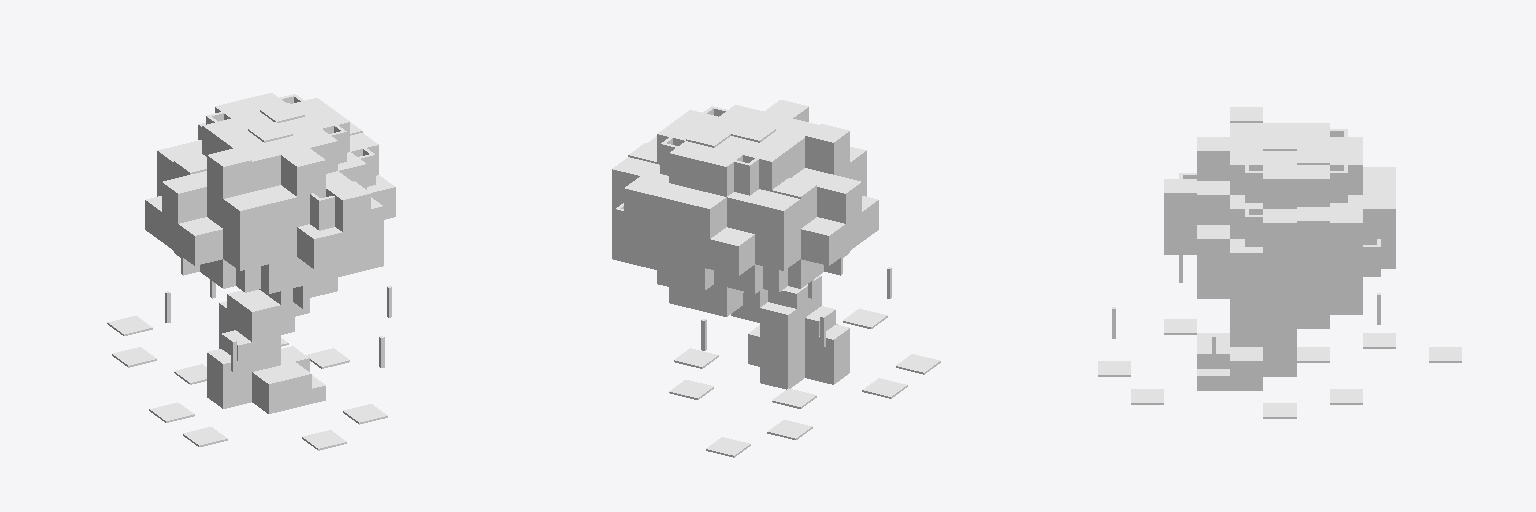
The model's file is Mineways2Skfb.obj.
The picture shows the model from 3 angles: view 1: azimuth 30°, elevation 25°; view 2: azimuth 150°, elevation 25°; view 3: azimuth 270°, elevation 25°; orthographic projection.
Visible parts, largest first — view 1: nice-tree.schematic__-13_0_-14_to_66_255_74; view 2: nice-tree.schematic__-13_0_-14_to_66_255_74; view 3: nice-tree.schematic__-13_0_-14_to_66_255_74.
Part boxes in pixels (left/top/right/bottom): nice-tree.schematic__-13_0_-14_to_66_255_74: left=107, top=93, right=395, bottom=450; nice-tree.schematic__-13_0_-14_to_66_255_74: left=612, top=100, right=940, bottom=457; nice-tree.schematic__-13_0_-14_to_66_255_74: left=1098, top=107, right=1461, bottom=418.
Bounding box in the file's own units: 0.8 × 0.8062 × 1.1.